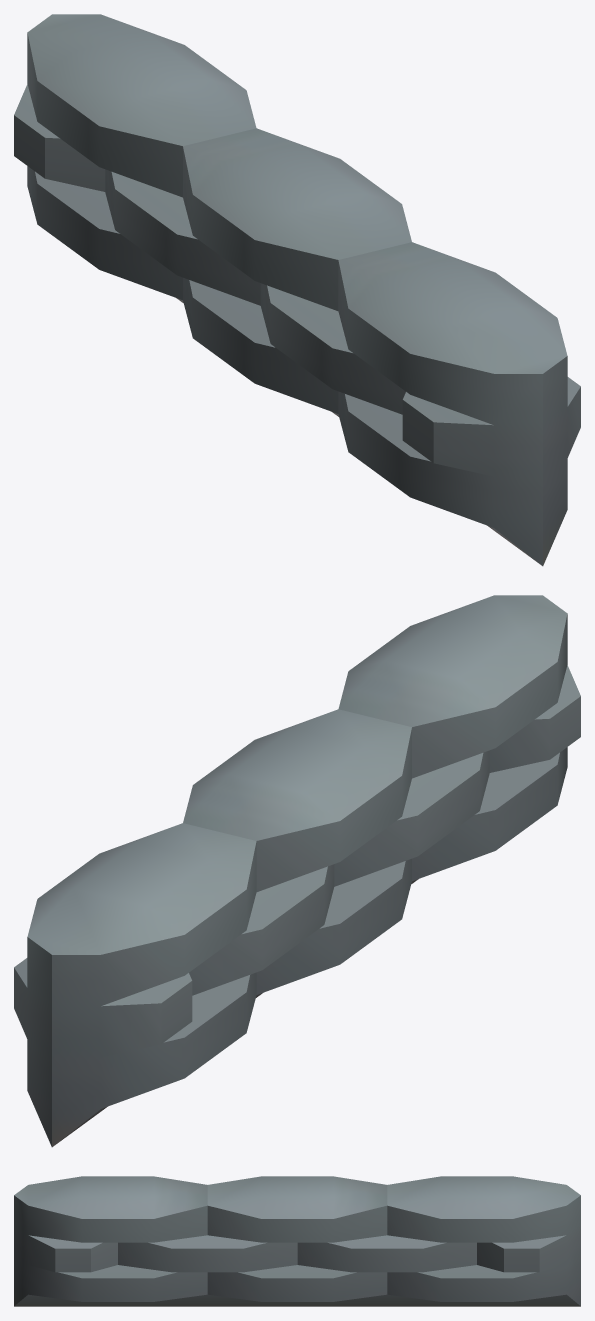
File: kay-cerca-pedra.gltf
3 renders of one model, top to bottom at view 1: azimuth 30°, elevation 25°; view 2: azimuth 150°, elevation 25°; view 3: azimuth 270°, elevation 25°, orthographic. The views are drawn at different scales.
Visible parts, largest first — view 1: fence_stone_straight; view 2: fence_stone_straight; view 3: fence_stone_straight.
Part boxes in pixels (x1=…): fence_stone_straight: x1=14, y1=14, x2=580, y2=566; fence_stone_straight: x1=14, y1=595, x2=580, y2=1147; fence_stone_straight: x1=14, y1=1176, x2=580, y2=1306.
Size of the model in its own units: 1 by 1.34 by 5.77.
Materials: 1 (1 with a texture image).
